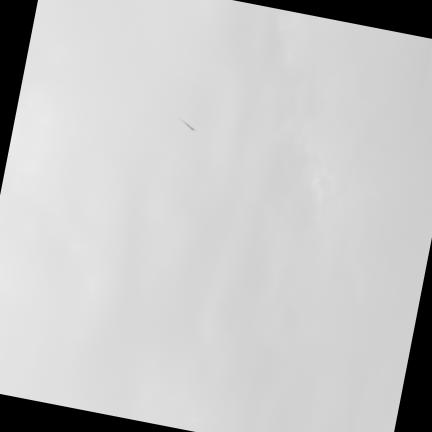Shahed: (179, 118, 195, 130)
